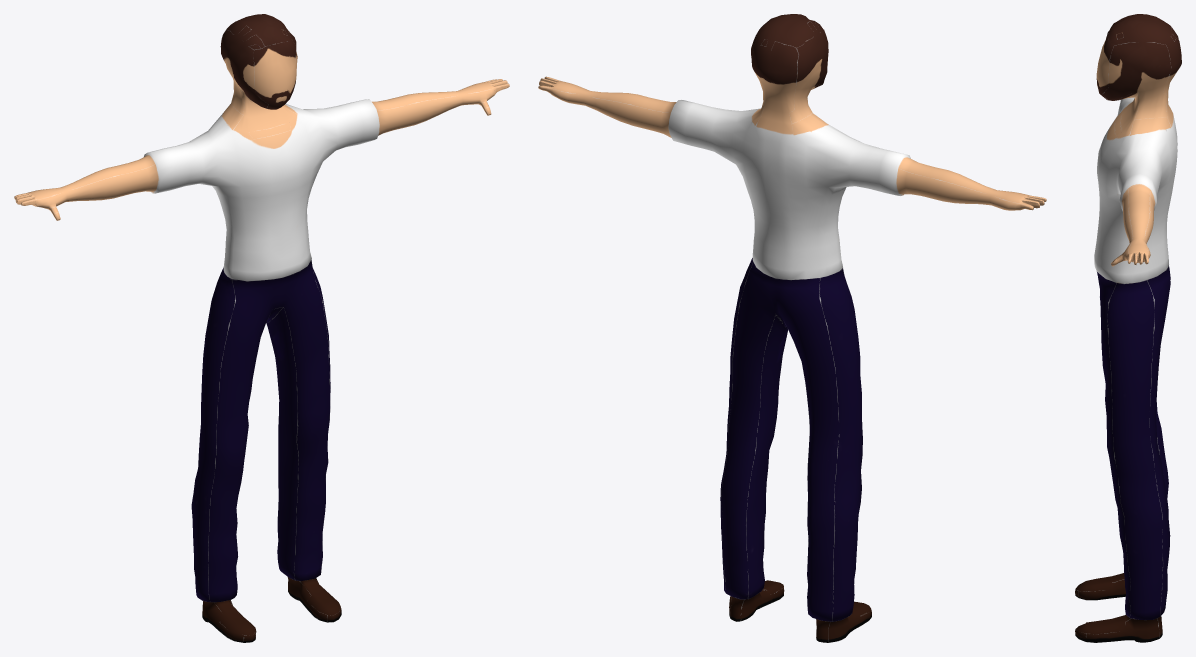
File: SuperGuy.fbx
3 views of the same model, side by side, from view 1: azimuth 30°, elevation 25°; view 2: azimuth 150°, elevation 25°; view 3: azimuth 270°, elevation 25° (orthographic). The views are drawn at different scales.
Visible parts, largest first — view 1: Guy_LowPoly; view 2: Guy_LowPoly; view 3: Guy_LowPoly.
Boxes of the visible parts, <box> form: Guy_LowPoly: <box>14,14,509,642</box>; Guy_LowPoly: <box>538,14,1046,642</box>; Guy_LowPoly: <box>1075,14,1181,642</box>.
Size of the model in its own units: 2615 by 3013 by 489.
Materials: 1 (1 with a texture image).
